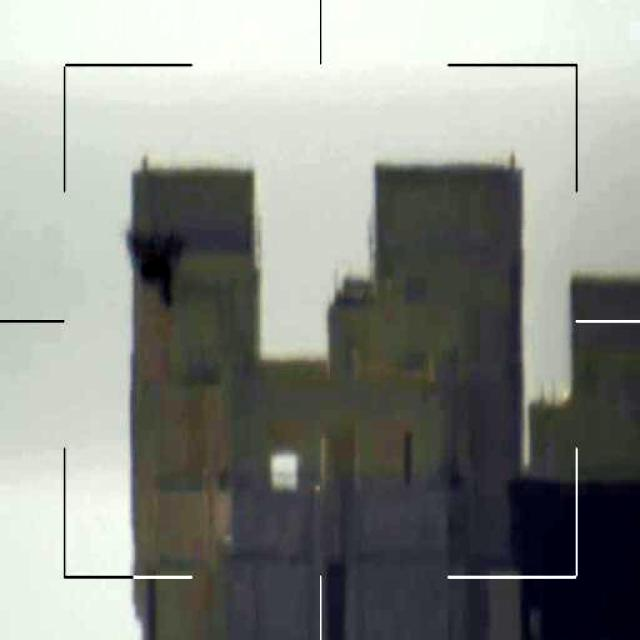bird: (122, 222, 185, 309)
